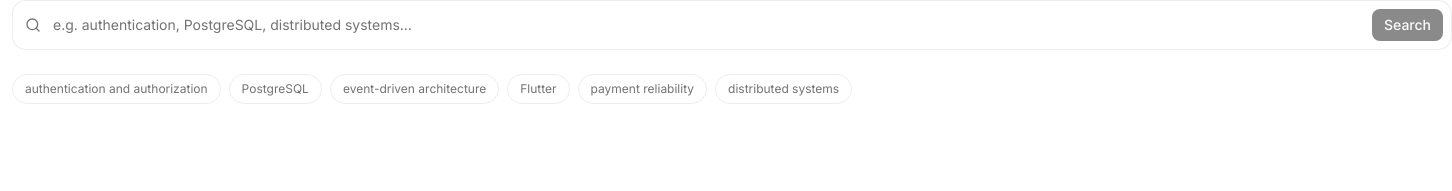
Test case: SearchPanel › shows an error state on API failure
The width and height of the screenshot is (1452, 191).
Type "test" into the field named "search projects" at (706, 25), box 49,9 -> 1364,41
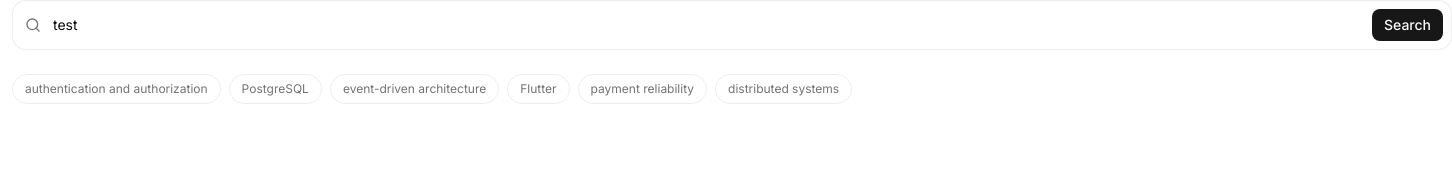
Click the button "Search" at (1408, 25), box 1372,9 -> 1443,41
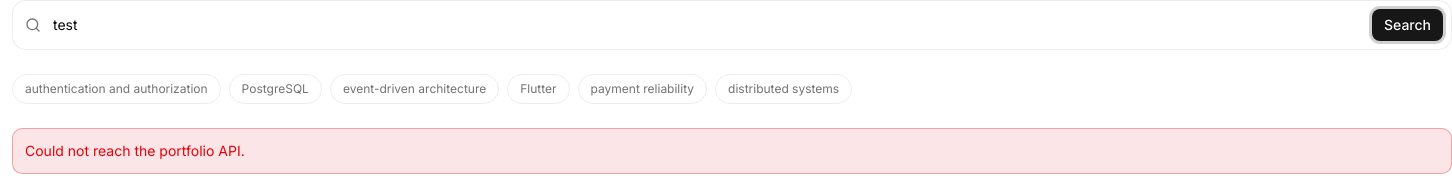
Now the text "Could not reach the portfolio API." is shown, box 12,128 -> 1451,174
